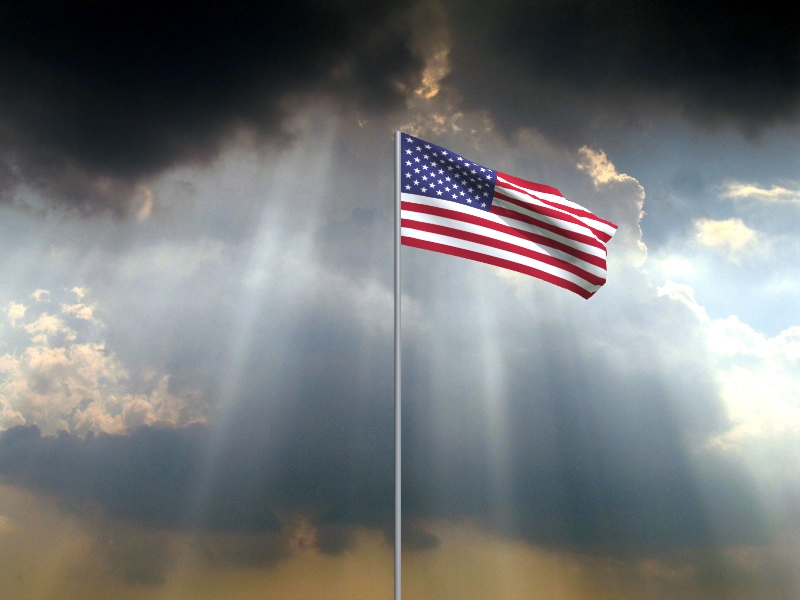us: (402, 134, 620, 301)
